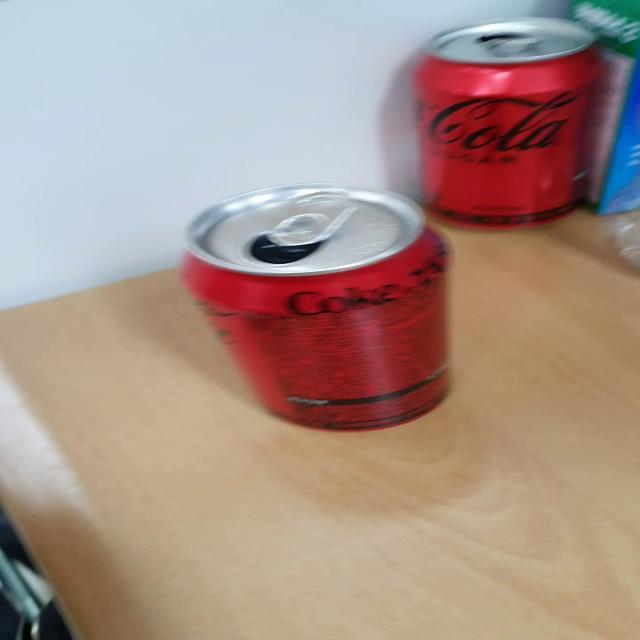coca-cola: (162, 176, 474, 440), (402, 11, 614, 238)
